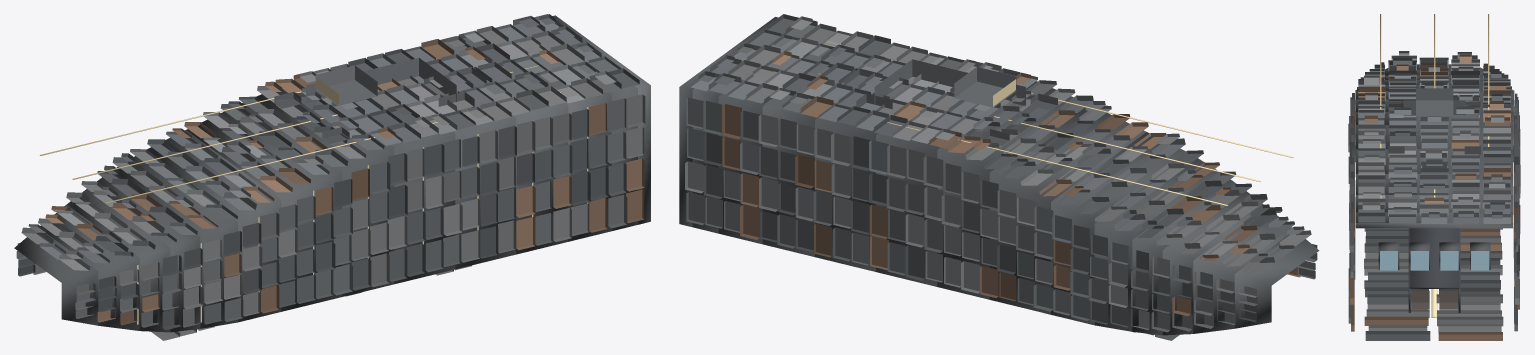
The model's file is rainbow_arc.glb.
3 views of the same model, side by side, from view 1: azimuth 30°, elevation 25°; view 2: azimuth 150°, elevation 25°; view 3: azimuth 270°, elevation 25° (orthographic). The views are drawn at different scales.
Visible parts, largest first — view 1: hull_core, panel_9, panel_8, panel_7, panel_4, panel_5, panel_6, panel_3, panel_2, panel_1, panel_0, bridge (+1 smaller); view 2: hull_core, panel_9, panel_8, panel_7, panel_4, panel_6, panel_5, panel_3, panel_2, panel_1, panel_0, bridge (+1 smaller); view 3: panel_9, panel_8, panel_7, panel_5, panel_6, hull_core, cargo_bay, engines, bridge, panel_2, panel_3, panel_4 (+4 smaller).
Part boxes in pixels (left/top/right/bottom): hull_core: left=14, top=15, right=650, bottom=332; panel_9: left=495, top=14, right=645, bottom=232; panel_8: left=440, top=26, right=590, bottom=245; panel_7: left=385, top=39, right=535, bottom=258; panel_4: left=220, top=81, right=371, bottom=299; panel_5: left=275, top=68, right=425, bottom=287; panel_6: left=330, top=53, right=480, bottom=275; panel_3: left=166, top=112, right=315, bottom=313; panel_2: left=112, top=139, right=262, bottom=330; panel_1: left=64, top=165, right=203, bottom=340; panel_0: left=16, top=206, right=138, bottom=325; bridge: left=274, top=58, right=486, bottom=143; hull_core: left=679, top=17, right=1319, bottom=335; panel_9: left=685, top=14, right=836, bottom=232; panel_8: left=740, top=30, right=890, bottom=248; panel_7: left=795, top=42, right=946, bottom=261; panel_4: left=961, top=88, right=1111, bottom=301; panel_6: left=850, top=56, right=1001, bottom=275; panel_5: left=905, top=68, right=1056, bottom=287; panel_3: left=1016, top=114, right=1166, bottom=315; panel_2: left=1070, top=133, right=1219, bottom=332; panel_1: left=1130, top=171, right=1267, bottom=340; panel_0: left=1194, top=204, right=1317, bottom=328; bridge: left=844, top=59, right=1057, bottom=145; panel_9: left=1348, top=197, right=1519, bottom=340; panel_8: left=1349, top=173, right=1519, bottom=317; panel_7: left=1349, top=150, right=1520, bottom=297; panel_5: left=1348, top=106, right=1520, bottom=252; panel_6: left=1349, top=130, right=1520, bottom=275; hull_core: left=1356, top=64, right=1513, bottom=228; cargo_bay: left=1408, top=228, right=1460, bottom=312; engines: left=1378, top=242, right=1490, bottom=270; bridge: left=1388, top=88, right=1480, bottom=168; panel_2: left=1349, top=71, right=1520, bottom=162; panel_3: left=1350, top=83, right=1518, bottom=176; panel_4: left=1348, top=92, right=1519, bottom=231.
Size of the model in its own units: 131 by 39.35 by 41.54.
